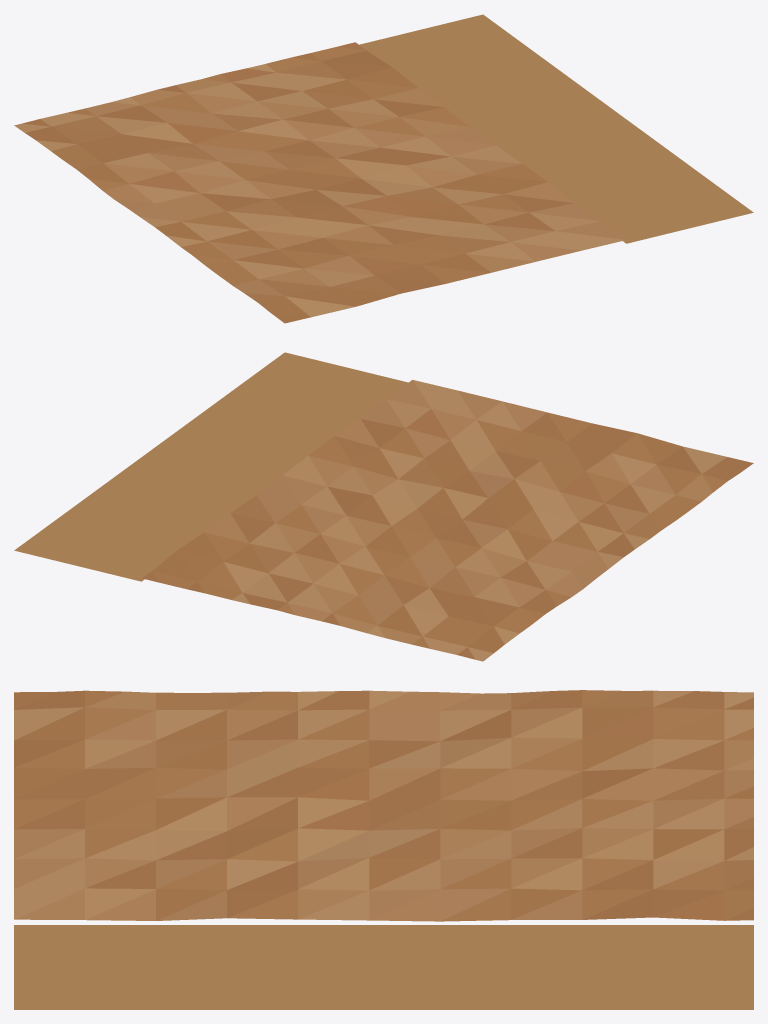
The picture shows the model from 3 angles, top to bottom: view 1: azimuth 30°, elevation 25°; view 2: azimuth 150°, elevation 25°; view 3: azimuth 270°, elevation 25°; orthographic projection. The views are drawn at different scales.
Visible parts, largest first — view 1: baked; view 2: baked; view 3: baked.
Boxes of the visible parts, x1,y1,x2,y2 form: baked: [14, 14, 753, 323]; baked: [14, 352, 753, 661]; baked: [14, 690, 753, 1009].
Bounding box in the file's own units: 125 × 1.39 × 125.
